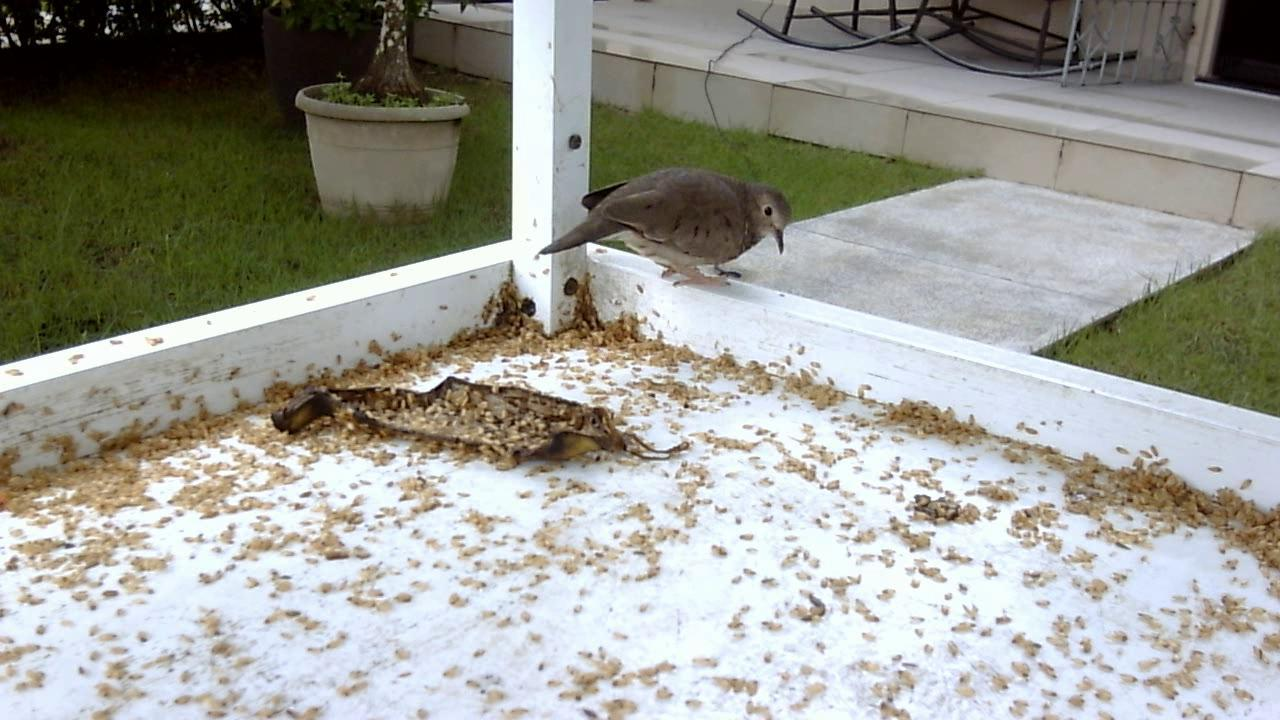rolinha: (524, 162, 792, 300)
